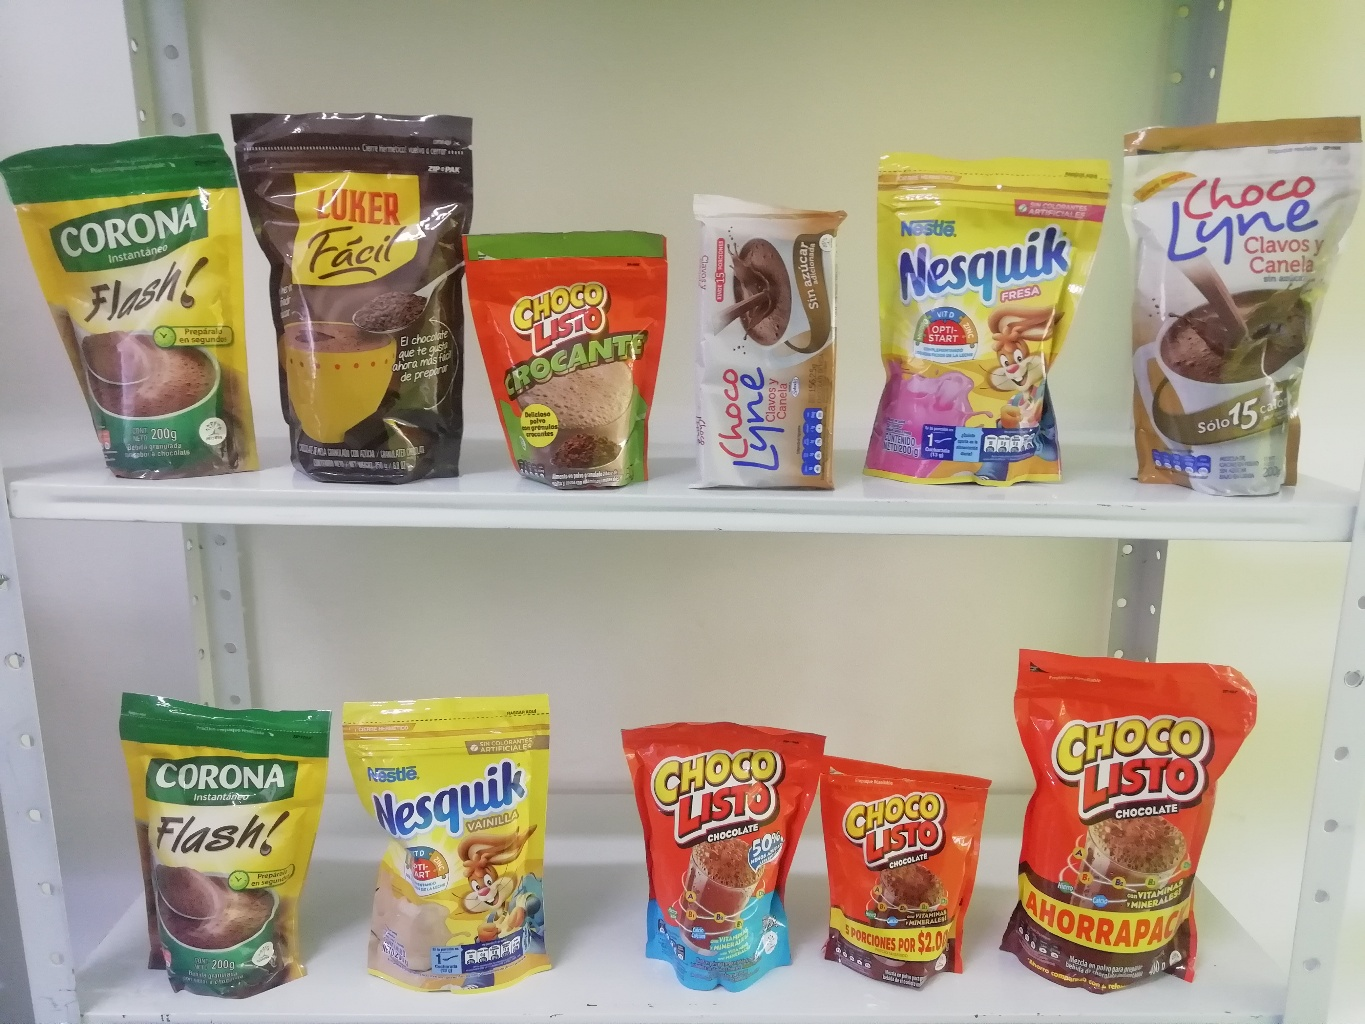COL0170102DYP10000: (456, 221, 681, 487)
COL0170103DYP10000: (807, 746, 999, 996)
COL0170103DYP40000: (1004, 640, 1280, 996)
COL0170104DYP20000: (629, 703, 824, 1004)
COL0170305DYP20000: (864, 146, 1104, 492)
COL0170306DYP20000: (337, 691, 572, 995)
